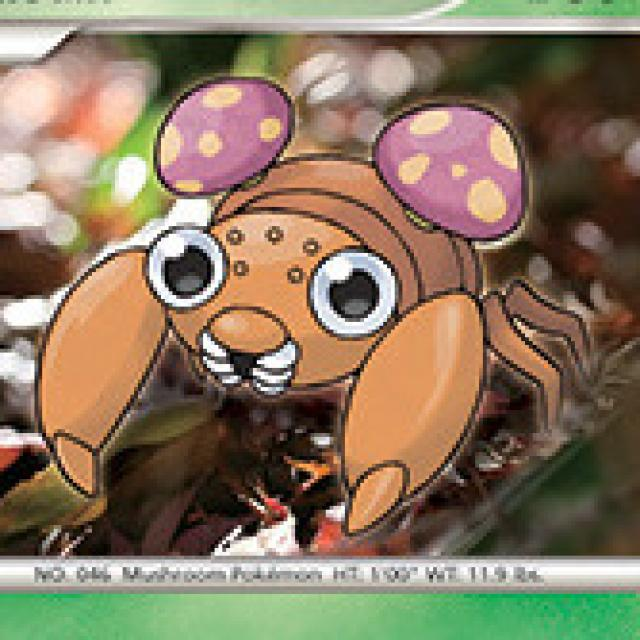Paras: (72, 85, 526, 508)
